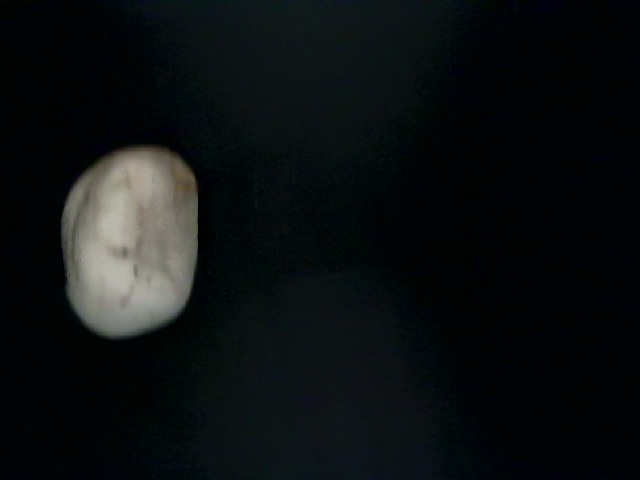QTLJ: (365, 351, 622, 480)
